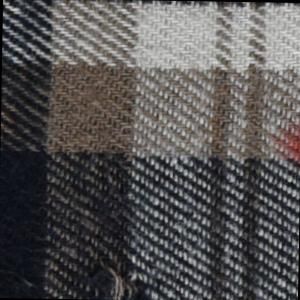Damage: (66, 256, 155, 300)
Stain: (273, 122, 300, 173)
